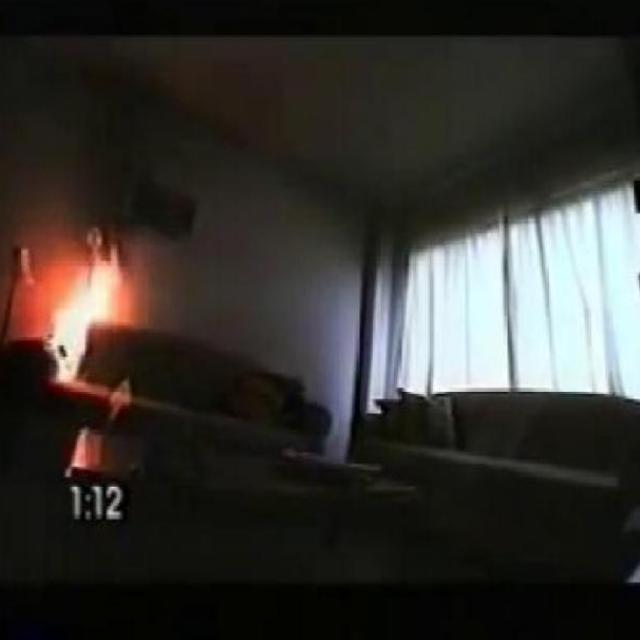smoke: (33, 226, 124, 383)
